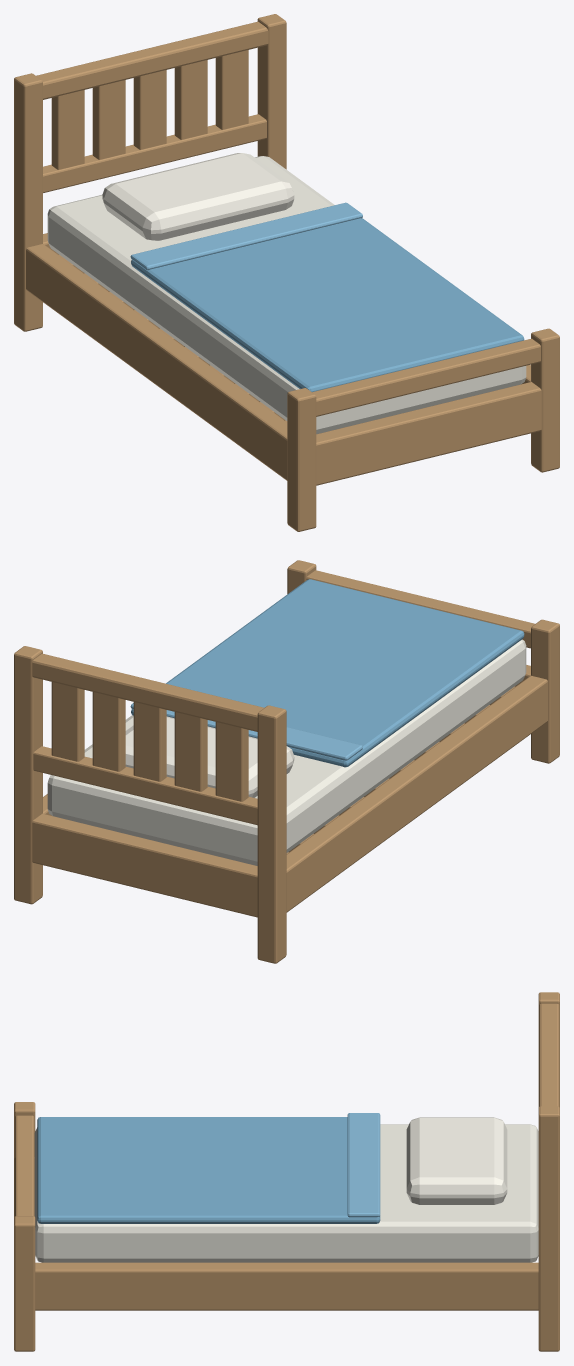
File: bed_twin_wood.glb
3 renders of one model, top to bottom at view 1: azimuth 30°, elevation 25°; view 2: azimuth 150°, elevation 25°; view 3: azimuth 270°, elevation 25°, orthographic. The views are drawn at different scales.
Parts seen in each view (by area): view 1: Twin bed folded top blanket, Twin bed rounded mattress, Twin wood bed side frame rail, Twin wood bed end frame rail, Twin bed soft pillow 1, Twin bed head post, Twin bed headboard top rail, Twin bed footboard top rail, Twin bed headboard lower rail, Twin bed blanket turned edge, Twin bed foot post, Twin bed head post.001 (+6 smaller); view 2: Twin bed folded top blanket, Twin bed rounded mattress, Twin wood bed side frame rail, Twin wood bed end frame rail.001, Twin bed head post, Twin bed head post.001, Twin bed headboard top rail, Twin bed headboard lower rail, Twin bed foot post, Twin bed footboard top rail, Twin bed headboard upright slat, Twin bed headboard upright slat.001 (+6 smaller); view 3: Twin bed folded top blanket, Twin bed rounded mattress, Twin wood bed side frame rail.001, Twin bed soft pillow 1, Twin bed head post.001, Twin bed blanket turned edge, Twin bed foot post.001, Twin bed headboard top rail, Twin bed footboard top rail, Twin bed head post, Twin bed foot post.
Part boxes in pixels (x1,y1,x2,y2): Twin bed folded top blanket: (131, 218, 524, 391); Twin bed rounded mattress: (47, 156, 526, 434); Twin wood bed side frame rail: (26, 244, 287, 480); Twin wood bed end frame rail: (316, 382, 541, 485); Twin bed soft pillow 1: (102, 153, 294, 240); Twin bed head post: (14, 73, 42, 331); Twin bed headboard top rail: (36, 21, 268, 99); Twin bed footboard top rail: (312, 338, 540, 416); Twin bed headboard lower rail: (43, 114, 266, 192); Twin bed blanket turned edge: (130, 202, 362, 270); Twin bed foot post: (287, 388, 316, 531); Twin bed head post.001: (257, 14, 286, 169); Twin bed folded top blanket: (131, 579, 524, 767); Twin bed rounded mattress: (47, 639, 526, 865); Twin wood bed side frame rail: (286, 675, 547, 912); Twin wood bed end frame rail.001: (32, 813, 257, 917); Twin bed head post: (257, 705, 286, 963); Twin bed head post.001: (14, 646, 42, 904); Twin bed headboard top rail: (32, 653, 264, 731); Twin bed headboard lower rail: (33, 746, 257, 825); Twin bed foot post: (531, 619, 559, 763); Twin bed footboard top rail: (306, 570, 534, 648); Twin bed headboard upright slat: (215, 722, 248, 801); Twin bed headboard upright slat.001: (174, 712, 207, 791); Twin bed folded top blanket: (37, 1117, 380, 1223); Twin bed rounded mattress: (34, 1124, 538, 1262); Twin wood bed side frame rail.001: (35, 1262, 538, 1310); Twin bed soft pillow 1: (406, 1117, 507, 1204); Twin bed head post.001: (538, 1106, 559, 1351); Twin bed blanket turned edge: (347, 1113, 380, 1217); Twin bed foot post.001: (14, 1216, 35, 1351); Twin bed headboard top rail: (539, 1003, 559, 1106); Twin bed footboard top rail: (15, 1115, 34, 1216); Twin bed head post: (538, 992, 559, 1107); Twin bed foot post: (14, 1102, 35, 1217).
Bounding box in the file's own units: 1.16 × 1.04 × 2.16.
